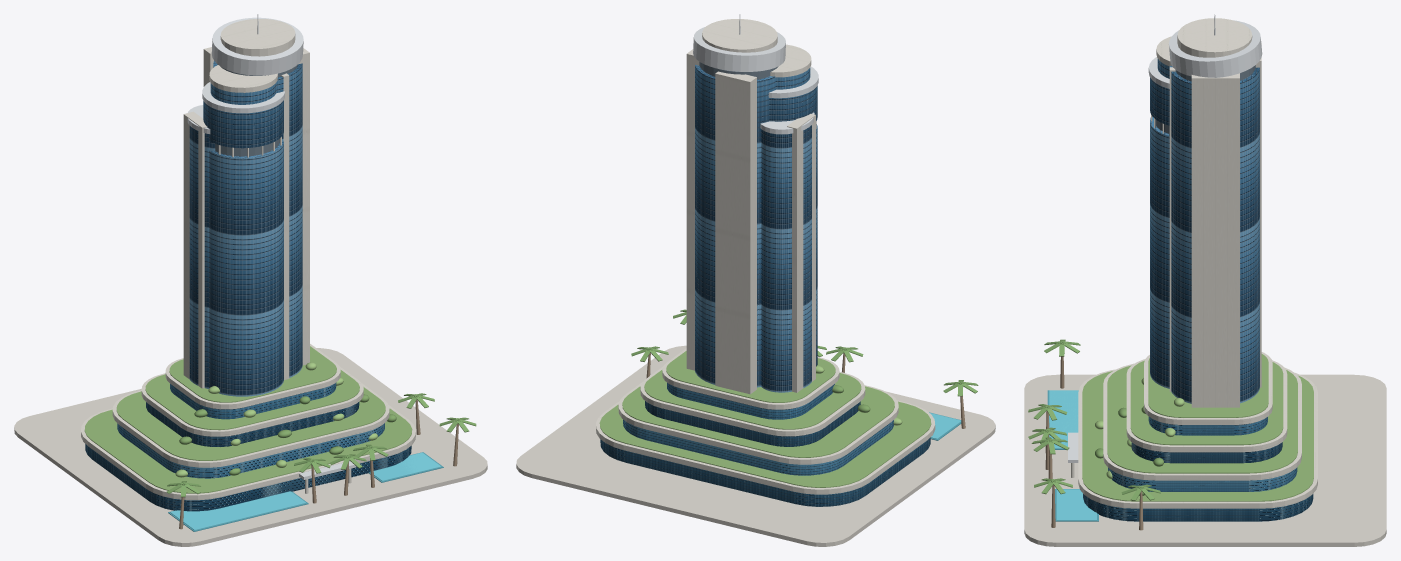
Rendered from gta_tower.glb.
3 views of the same model, side by side, from view 1: azimuth 30°, elevation 25°; view 2: azimuth 150°, elevation 25°; view 3: azimuth 270°, elevation 25° (orthographic). The views are drawn at different scales.
Parts seen in each view (by area): view 1: tower_lobe_front_lower, plaza_base, podium_grass_1, podium_grass_2, tower_lobe_main, tower_lobe_right_wing, spine_right_wing, podium_glass_1, podium_grass_3, tower_lobe_front_upper, podium_glass_2, spine_left_main (+15 smaller); view 2: plaza_base, spine_rear_core, tower_lobe_right_wing, tower_lobe_main, podium_grass_1, spine_right_wing, podium_grass_2, podium_glass_1, podium_grass_3, podium_glass_2, podium_fascia_1, spine_left_main (+11 smaller); view 3: plaza_base, spine_left_main, tower_lobe_main, podium_grass_1, tower_lobe_front_lower, podium_grass_2, podium_grass_3, podium_glass_1, podium_fascia_1, tower_main_crown_cap, podium_fascia_2, podium_grass_4 (+11 smaller).
Part boxes in pixels (x1,y1,x2,y2): tower_lobe_front_lower: [209, 141, 283, 396]; plaza_base: [14, 348, 487, 546]; podium_grass_1: [84, 408, 412, 493]; podium_grass_2: [116, 387, 385, 460]; tower_lobe_main: [213, 61, 302, 377]; tower_lobe_right_wing: [189, 126, 215, 388]; spine_right_wing: [183, 111, 207, 388]; podium_glass_1: [85, 444, 411, 511]; podium_grass_3: [145, 370, 359, 430]; tower_lobe_front_upper: [203, 100, 283, 148]; podium_glass_2: [117, 423, 384, 478]; spine_left_main: [298, 48, 309, 365]; plaza_base: [516, 345, 995, 546]; spine_rear_core: [715, 71, 756, 394]; tower_lobe_right_wing: [761, 125, 811, 392]; tower_lobe_main: [695, 65, 776, 387]; podium_grass_1: [599, 401, 931, 487]; spine_right_wing: [787, 114, 815, 392]; podium_grass_2: [622, 386, 894, 457]; podium_glass_1: [600, 437, 930, 506]; podium_grass_3: [644, 370, 861, 429]; podium_glass_2: [623, 419, 893, 475]; podium_fascia_1: [596, 400, 935, 494]; spine_left_main: [686, 49, 699, 370]; plaza_base: [1024, 374, 1386, 546]; spine_left_main: [1191, 73, 1239, 407]; tower_lobe_main: [1169, 65, 1259, 403]; podium_grass_1: [1082, 371, 1313, 501]; tower_lobe_front_lower: [1150, 117, 1169, 388]; podium_grass_2: [1107, 365, 1297, 473]; podium_grass_3: [1130, 360, 1283, 445]; podium_glass_1: [1083, 494, 1313, 521]; podium_fascia_1: [1078, 369, 1317, 508]; tower_main_crown_cap: [1177, 18, 1252, 57]; podium_fascia_2: [1103, 363, 1301, 480]; podium_grass_4: [1148, 354, 1268, 417].
Bounding box in the file's own units: 13.6 × 17.18 × 12.4.
Materials: 13 (3 with a texture image).
